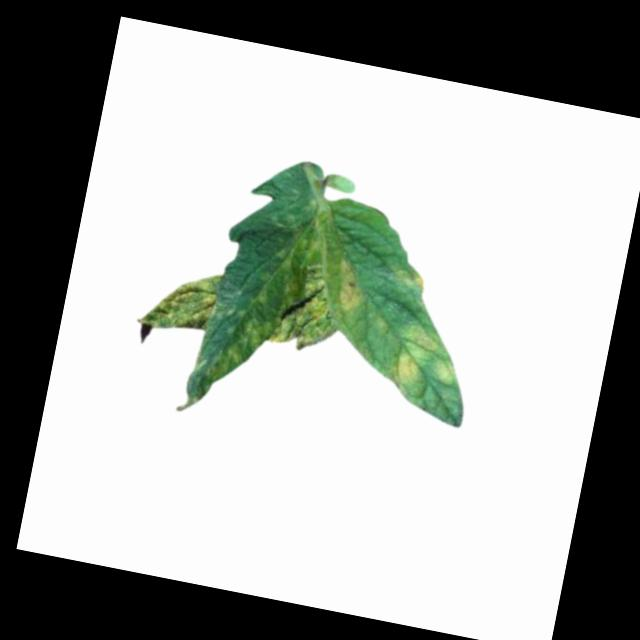Leaf_Mold: (382, 318, 468, 403), (269, 262, 344, 353), (139, 262, 219, 338), (221, 313, 271, 371), (331, 259, 361, 316), (386, 264, 426, 295)
